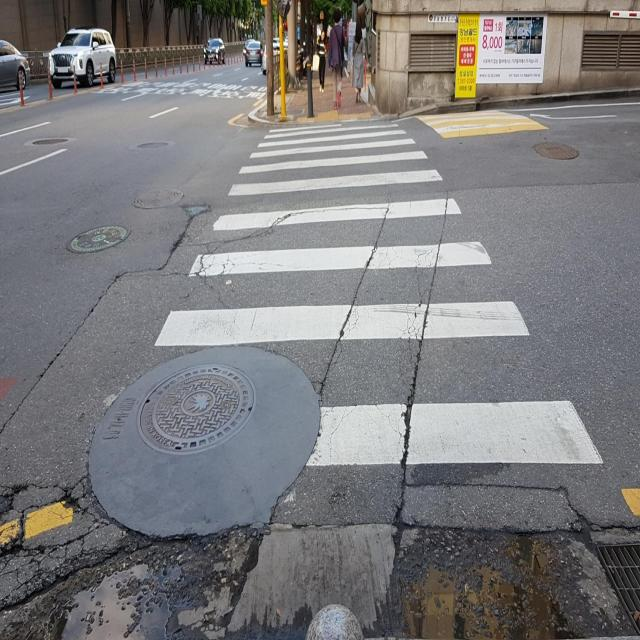횡단보도: (154, 121, 606, 468)
